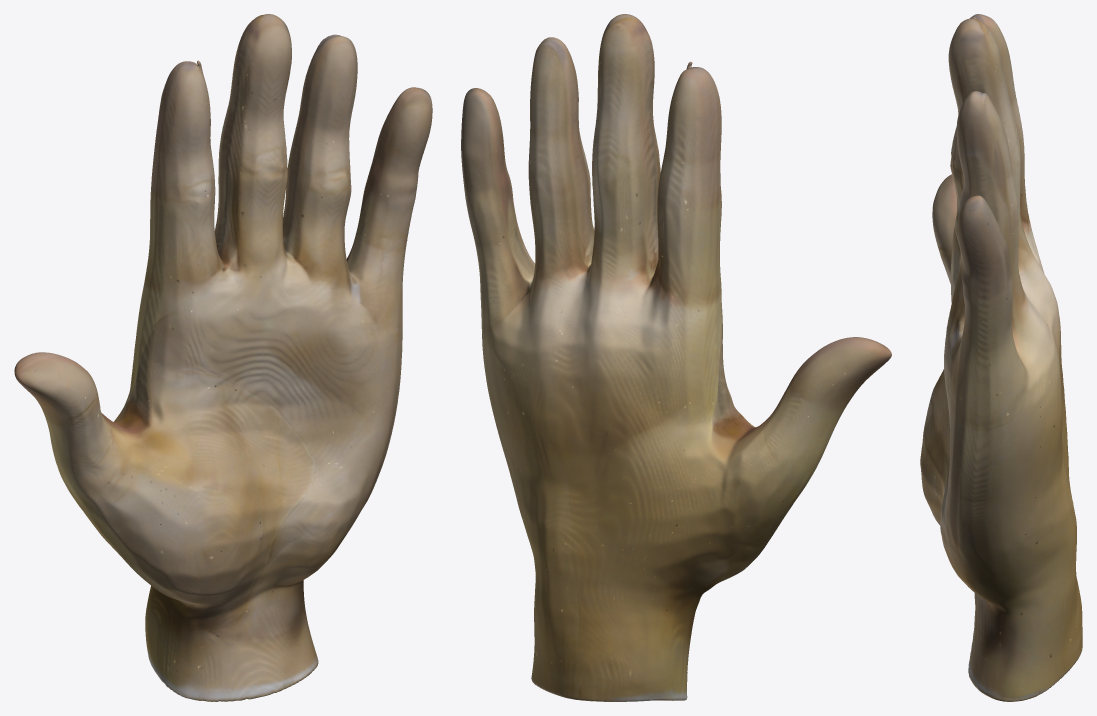
Rendered from Chha.glb.
3 views of the same model, side by side, from view 1: azimuth 30°, elevation 25°; view 2: azimuth 150°, elevation 25°; view 3: azimuth 270°, elevation 25° (orthographic). The views are drawn at different scales.
Bounding box in the file's own units: 1.31 × 2 × 0.4499.
1 material, 1 textured.
